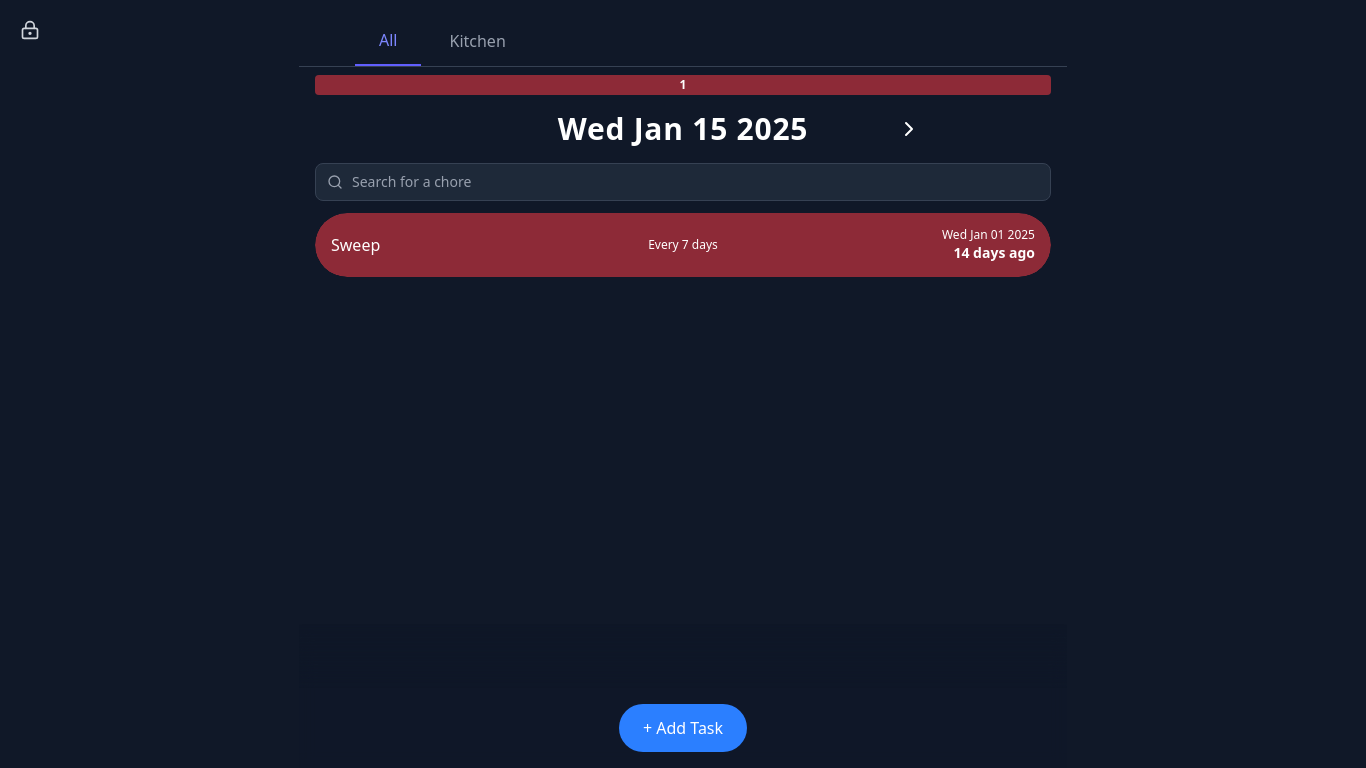
Test: touch lock wiring › the indicator is raised above a pending attempt overlay and unlocks it
Check: the text "Sweep" is shown, box x1=331 y1=234 x2=380 y2=256
Click the element with test id "chore-bar".
click(683, 245)  # box x1=315 y1=213 x2=1051 y2=277
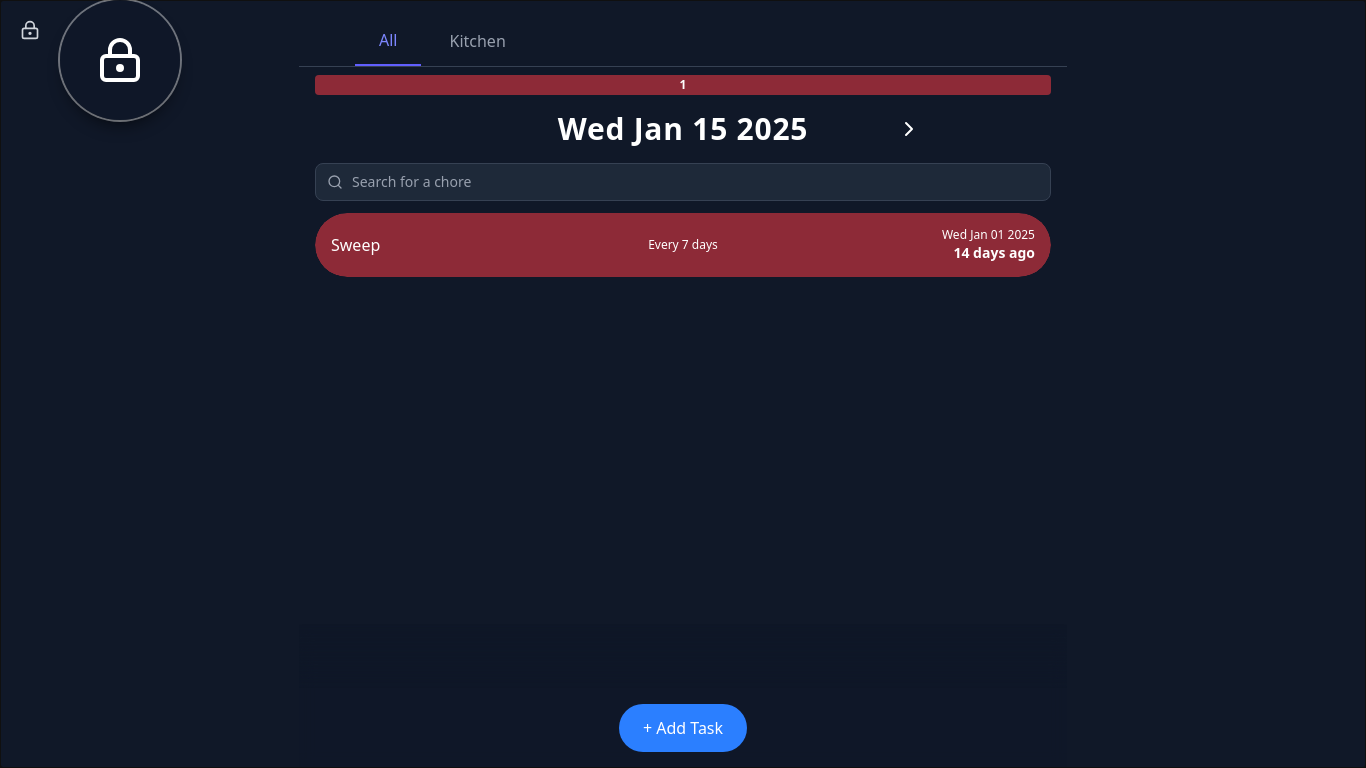
Check: the button with test id "touch-lock-overlay" is shown, box x1=60 y1=0 x2=180 y2=120
Click the button named "Unlock screen".
click(30, 30)  # box x1=8 y1=8 x2=52 y2=52
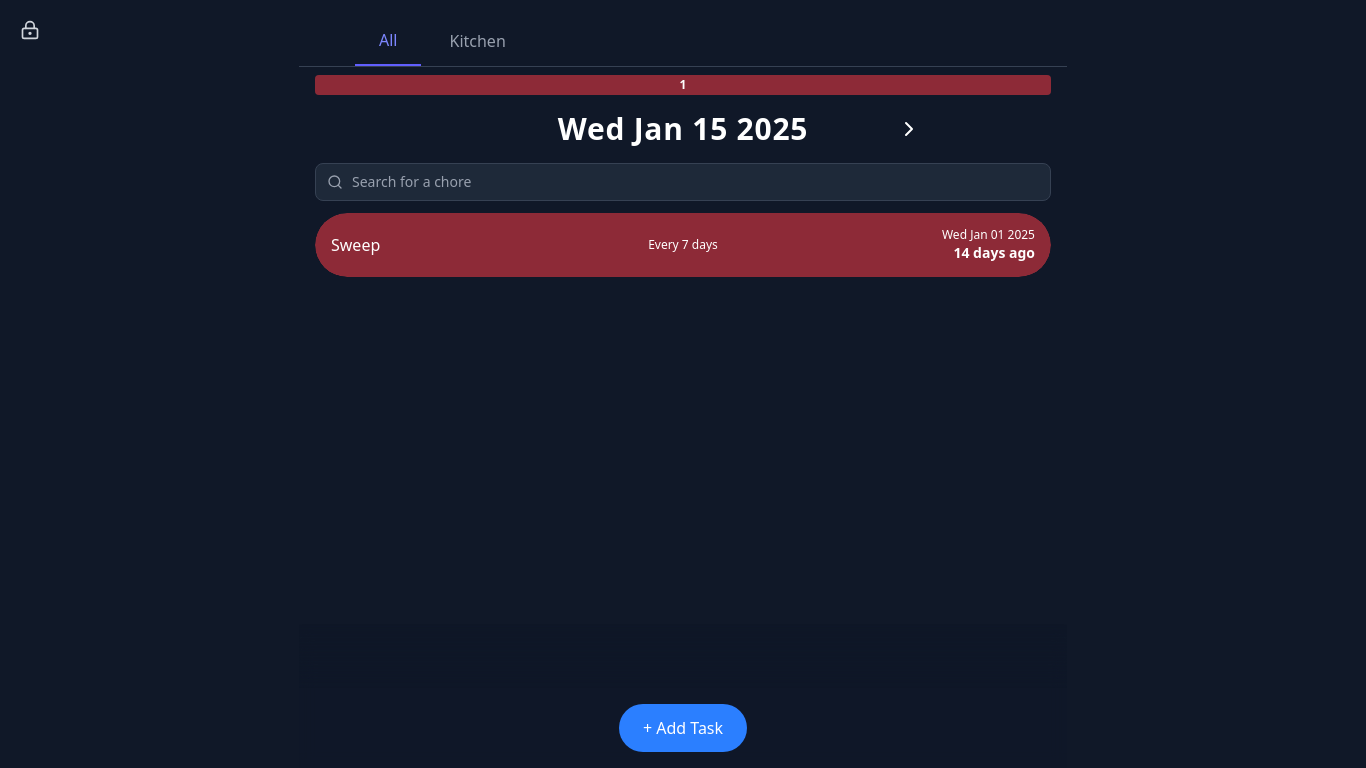
Check: the button with test id "touch-lock-overlay" is gone
